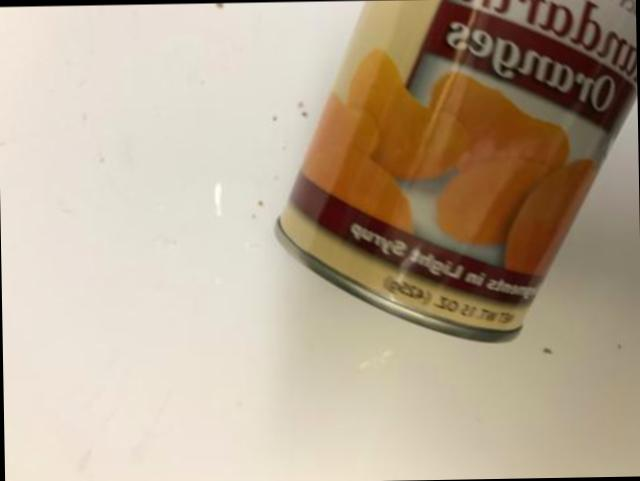metal: (274, 0, 637, 342)
